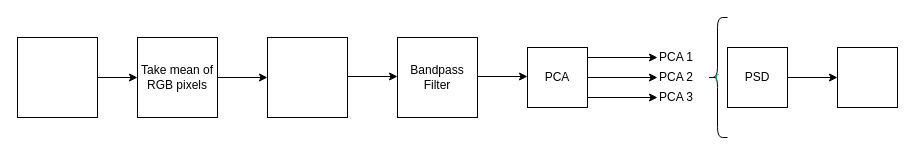
Some shapes in this 915 by 155 pixel diagram are drawn without their labels. Here are the shapes that lost their labels. From the top down, the box of each, then its label:
(16, 36, 98, 118): Forehead Detection
(266, 36, 348, 118): Normalize
(836, 46, 898, 108): FFT
